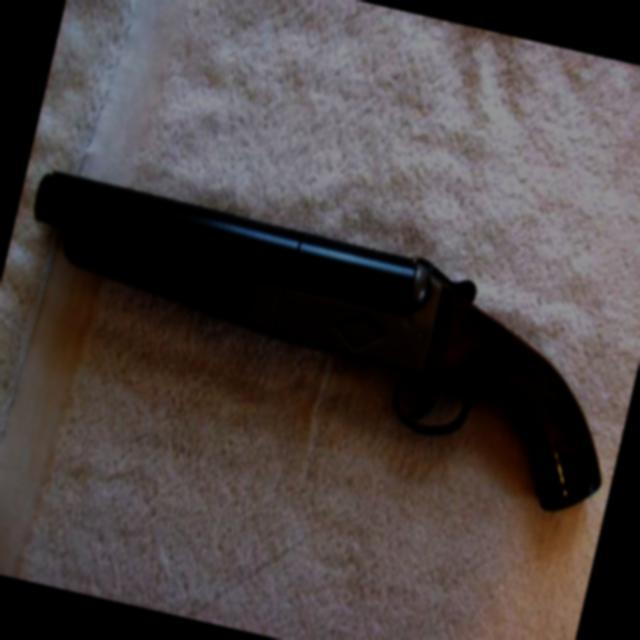shotgun: (0, 113, 640, 573)
